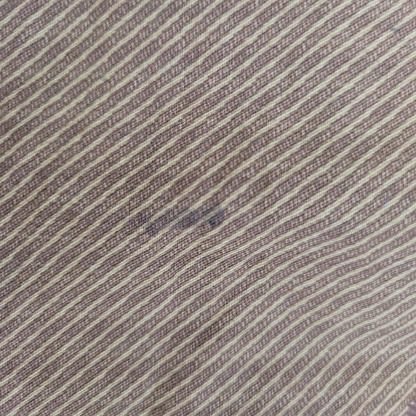spot: (101, 179, 252, 242)
